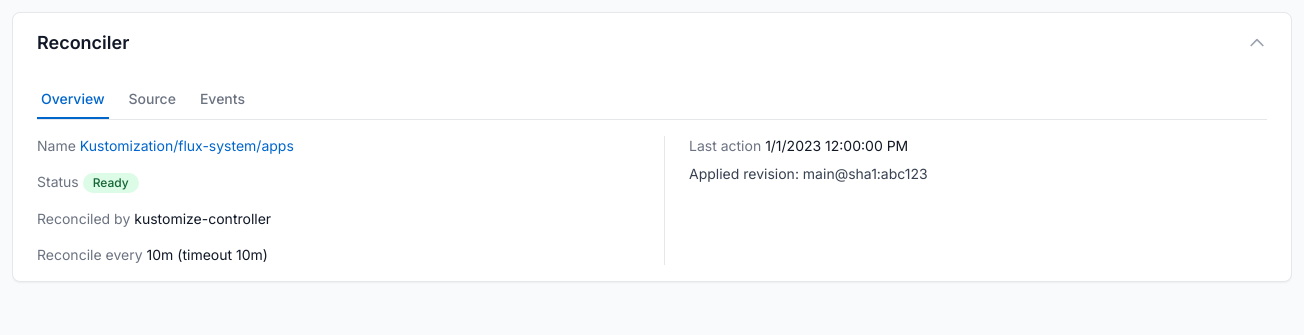
WorkloadReconcilerPanel component › Source tab › should switch to Source tab and display source info
Click the button "Source" at (152, 100), box x1=124 y1=81 x2=180 y2=119
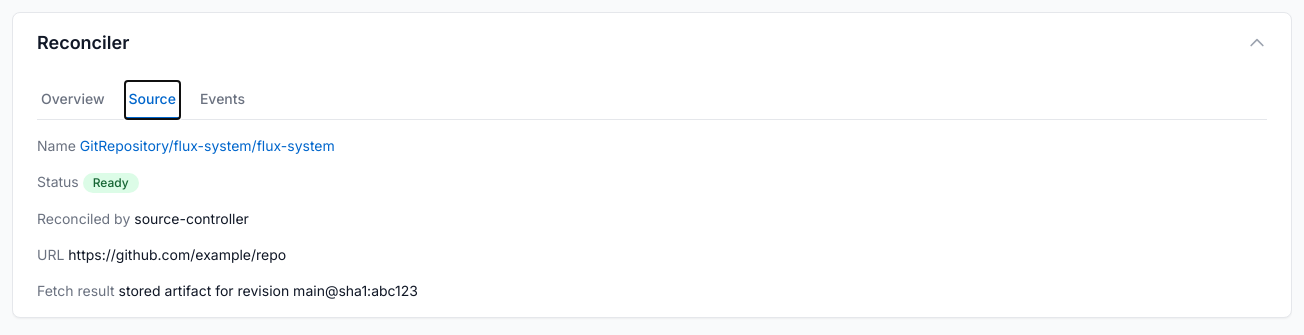
Check: the text "GitRepository/flux-system/flux-system" is shown, box x1=80 y1=137 x2=335 y2=154
Check: the text "https://github.com/example/repo" is shown, box x1=68 y1=246 x2=286 y2=263
Check: the text "stored artifact for revision main@sha1:abc123" is shown, box x1=119 y1=282 x2=418 y2=299
